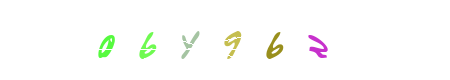0: (85, 0, 165, 80)
2: (278, 0, 358, 80)
6: (149, 0, 229, 80), (234, 0, 314, 80)
9: (198, 0, 278, 80)
Y: (185, 0, 265, 80)
